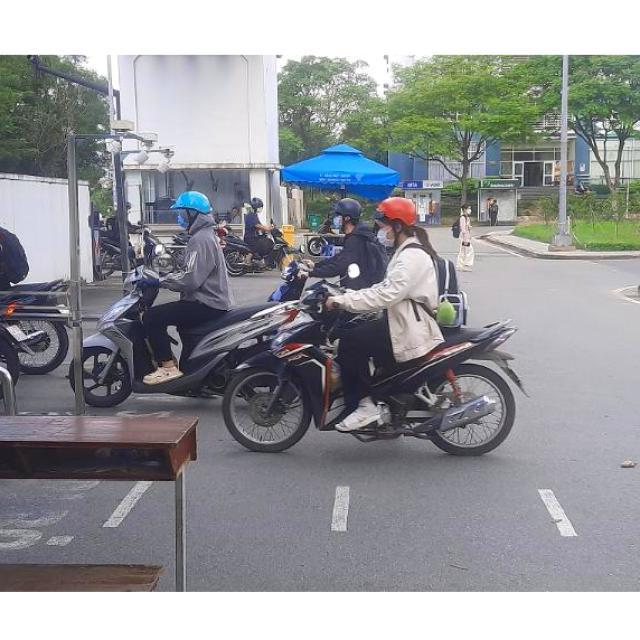Helmet: (372, 196, 418, 247), (172, 192, 212, 230), (329, 199, 362, 233)
